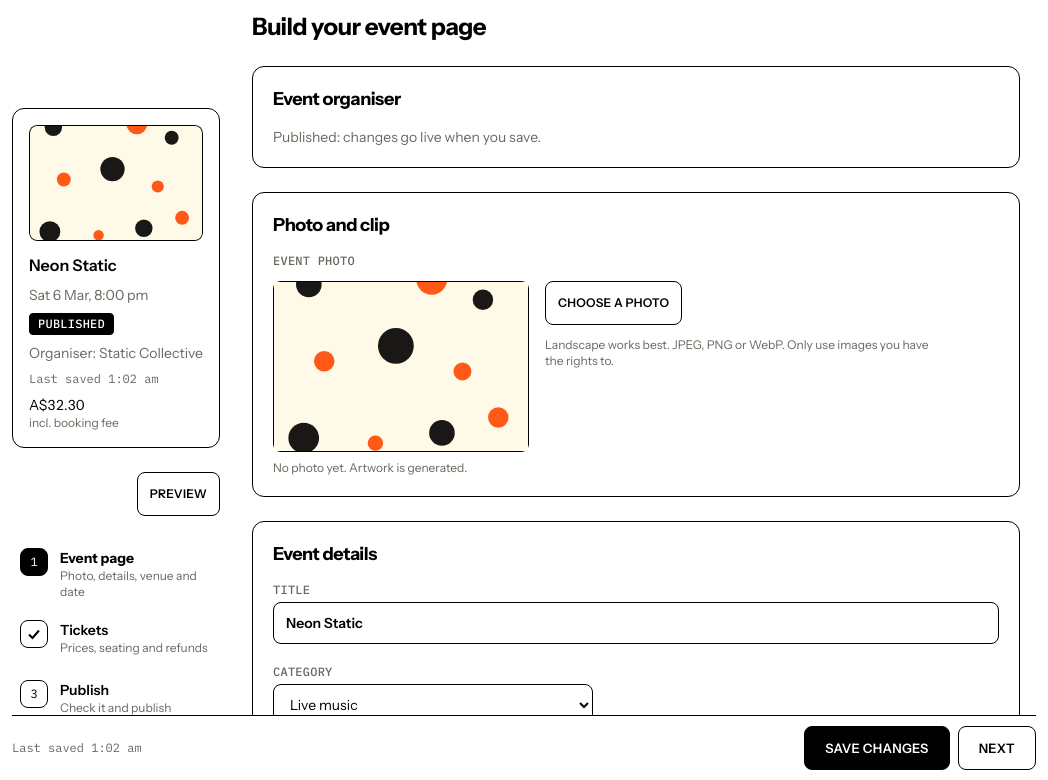
EventEditor seating — admin › an existing event's seat map link goes to the admin seat-map page
Click the button "Tickets Prices, seating and refunds": (116, 640) [12, 612, 220, 668]
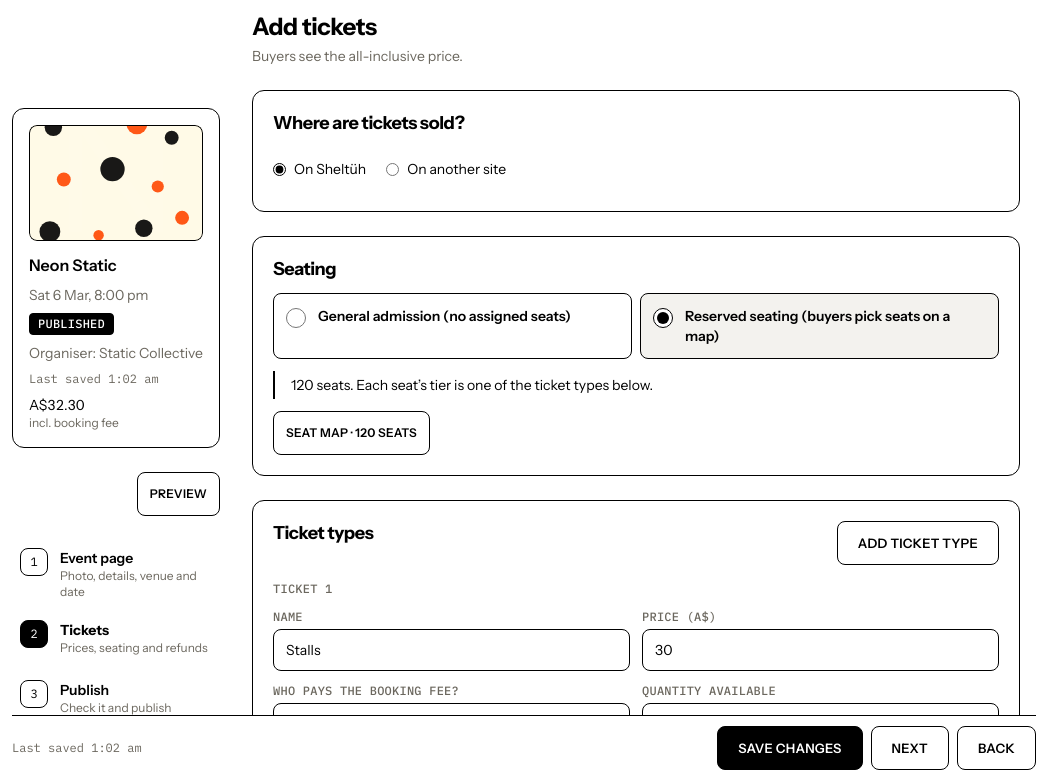
expect the radio button labelled "Reserved seating (buyers pick seats on a map)" is checked: met, box [653, 308, 673, 328]
expect the radio button labelled "General admission (no assigned seats)" is enabled: met, box [286, 308, 306, 328]
